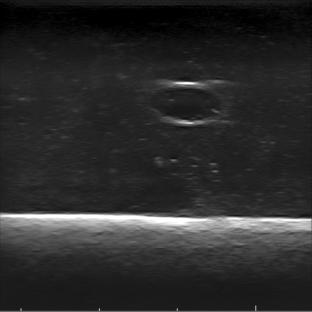vessel: (148, 80, 224, 126)
